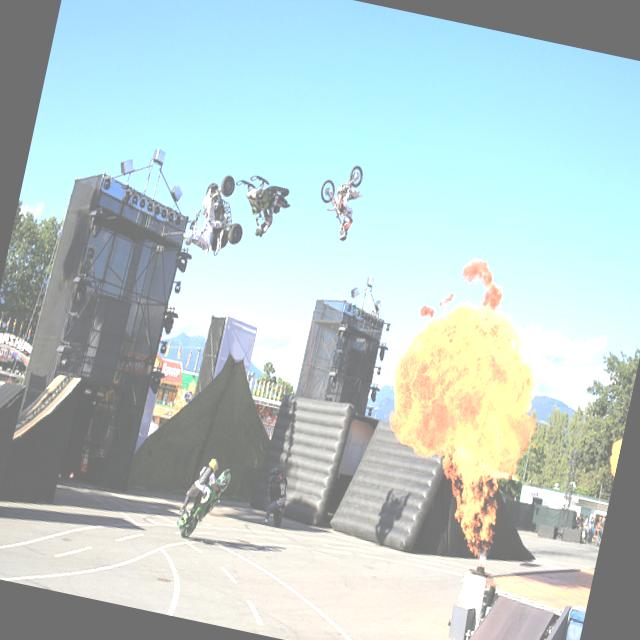Vehicle: (194, 170, 254, 259), (173, 460, 232, 544), (230, 170, 296, 234), (314, 158, 369, 228), (258, 466, 292, 526)
